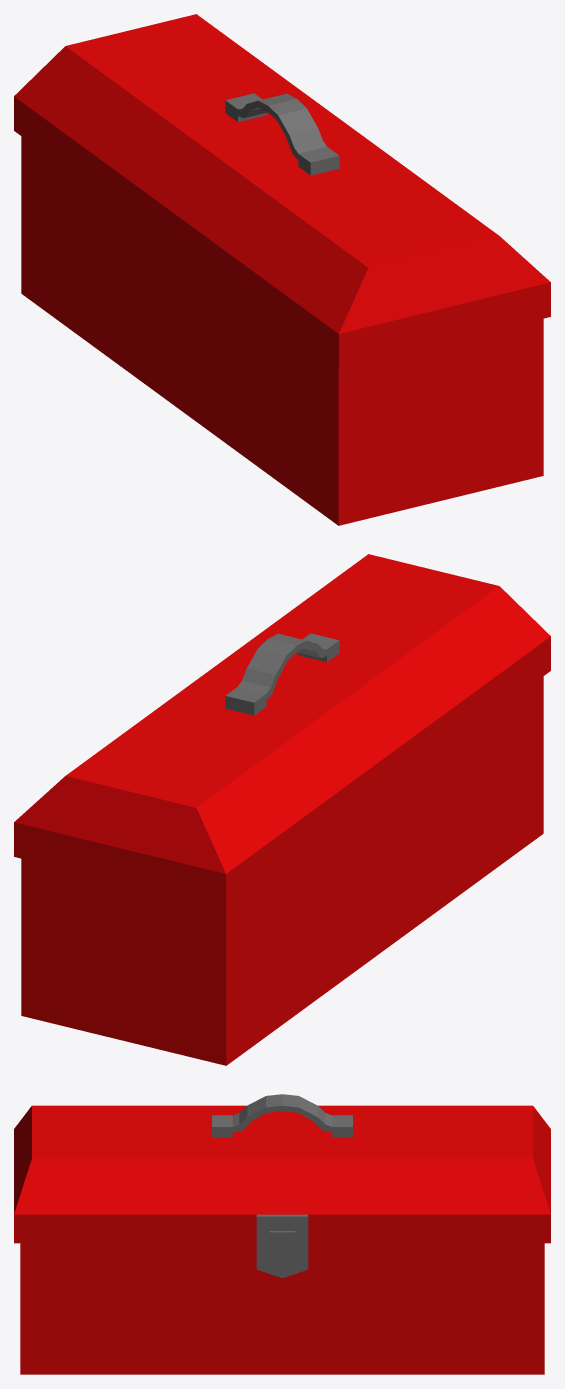
Rendered from ferramentas.fbx.
3 views of the same model, one above another, from view 1: azimuth 30°, elevation 25°; view 2: azimuth 150°, elevation 25°; view 3: azimuth 270°, elevation 25° (orthographic). The views are drawn at different scales.
Visible parts, largest first — view 1: Cube; view 2: Cube; view 3: Cube.
Part boxes in pixels (x1,y1,x2,y2): Cube: (14, 14, 550, 525); Cube: (14, 554, 550, 1065); Cube: (14, 1094, 550, 1374).
Bounding box in the file's own units: 215 × 263 × 549.
